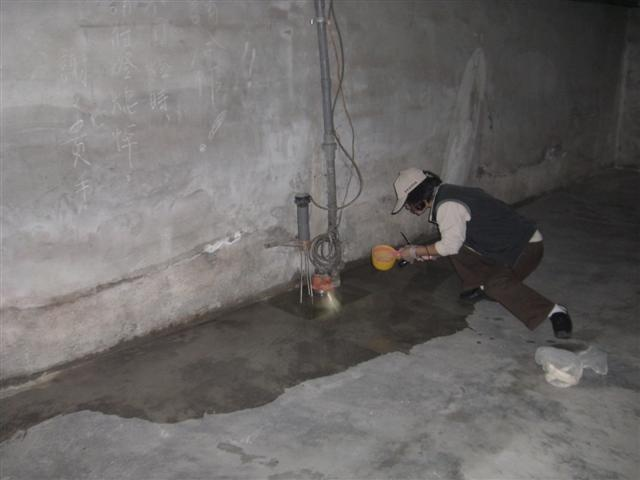bowl: (370, 243, 399, 272)
